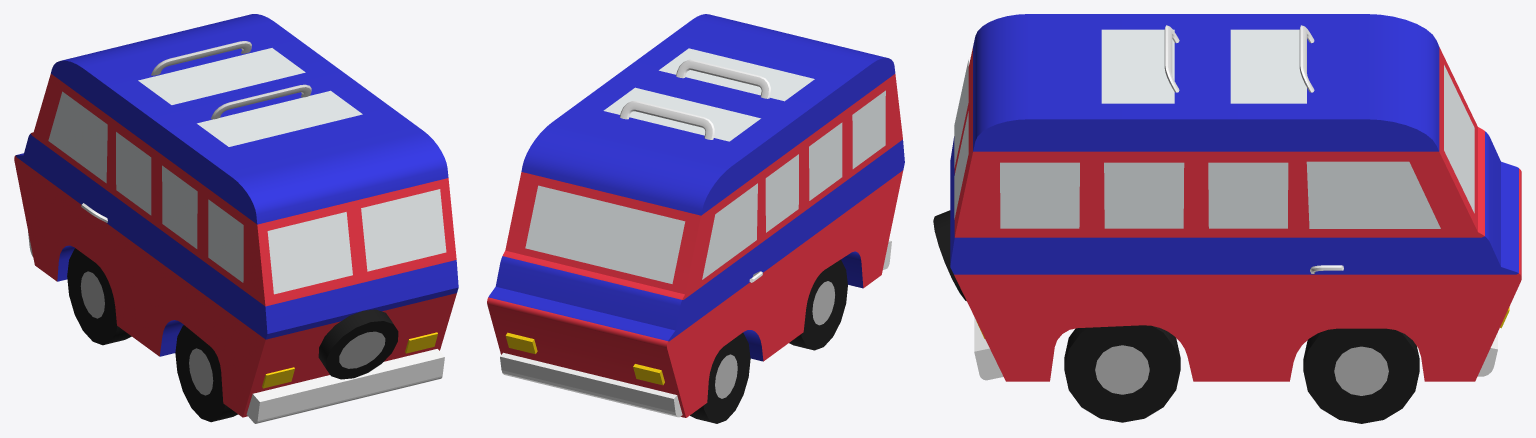
File: BlueCar.fbx
The picture shows the model from 3 angles, left to right: view 1: azimuth 30°, elevation 25°; view 2: azimuth 150°, elevation 25°; view 3: azimuth 270°, elevation 25°; orthographic projection. The views are drawn at different scales.
Visible parts, largest first — view 1: Cube, Plane.007, Cube.002, Plane.004, Plane.003, Plane, Plane.001, Cylinder.006, Cylinder.001, Cylinder, Plane.002, Cylinder.005 (+3 smaller); view 2: Cube, Plane.005, Plane.007, Cube.001, Plane, Cylinder.001, Cylinder, Plane.001, Plane.002, Cylinder.004, Cylinder.005, Cube.003 (+1 smaller); view 3: Cube, Plane.007, Cylinder, Cylinder.001, Plane.002, Plane, Plane.001, Plane.005, Cube.002, Cylinder.006, Plane.004, Plane.003 (+2 smaller).
Part boxes in pixels (<box>): Cube: <box>14,14,458,417</box>; Plane.007: <box>116,132,243,282</box>; Cube.002: <box>246,349,444,423</box>; Plane.004: <box>361,189,446,271</box>; Plane.003: <box>267,212,352,294</box>; Plane: <box>138,48,305,104</box>; Plane.001: <box>197,90,362,146</box>; Cylinder.006: <box>318,309,398,379</box>; Cylinder.001: <box>67,248,131,345</box>; Cylinder: <box>175,325,237,422</box>; Plane.002: <box>48,91,107,183</box>; Cylinder.005: <box>211,84,311,119</box>; Cube: <box>487,14,904,417</box>; Plane.005: <box>525,185,685,283</box>; Plane.007: <box>765,90,885,232</box>; Cube.001: <box>500,352,682,417</box>; Plane: <box>603,87,760,141</box>; Cylinder.001: <box>690,332,750,423</box>; Cylinder: <box>789,259,847,350</box>; Plane.001: <box>659,48,814,101</box>; Plane.002: <box>702,183,757,279</box>; Cylinder.004: <box>620,101,714,139</box>; Cylinder.005: <box>676,59,770,98</box>; Cube.003: <box>505,332,537,354</box>; Cube: <box>950,14,1521,381</box>; Plane.007: <box>1000,162,1288,228</box>; Cylinder: <box>1064,325,1180,422</box>; Cylinder.001: <box>1303,328,1419,423</box>; Plane.002: <box>1306,161,1440,228</box>; Plane: <box>1230,29,1306,103</box>; Plane.001: <box>1101,29,1174,103</box>; Plane.005: <box>1444,65,1474,213</box>; Cube.002: <box>974,317,1003,380</box>; Cylinder.006: <box>933,210,966,300</box>; Plane.004: <box>954,111,968,219</box>; Plane.003: <box>954,60,968,167</box>.
Bounding box in the file's own units: 134 × 172 × 279.
